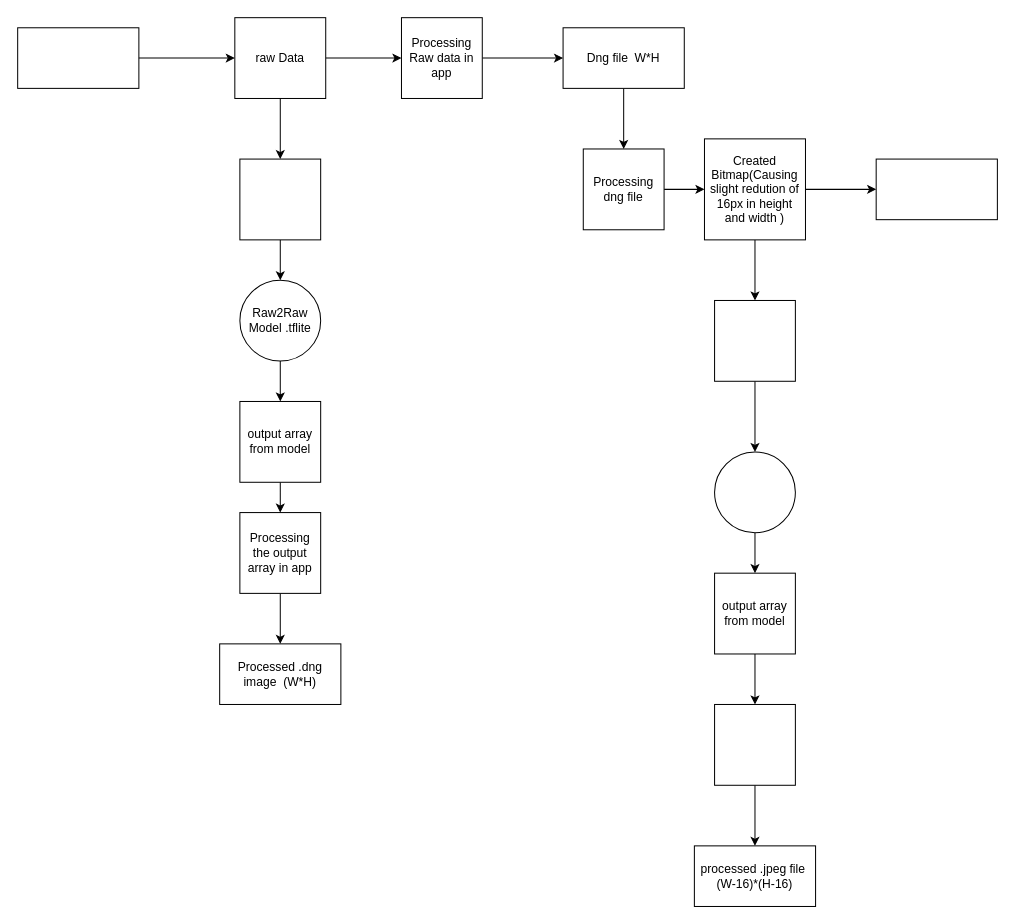
This 1015x924 diagram has some shape labels left out. The box of each missing label's shape, as (x1, y1, x2, y2) in pixels:
Camera: (17, 27, 139, 88)
Coverting bitmap to float array: (714, 299, 795, 381)
coverting raw data to float array: (239, 158, 321, 240)
jpeg file (W-16)*(H-16): (875, 158, 997, 220)
Processing Output array in app: (714, 703, 795, 785)
Rgb2Rgb Model .tflite: (714, 451, 795, 533)
